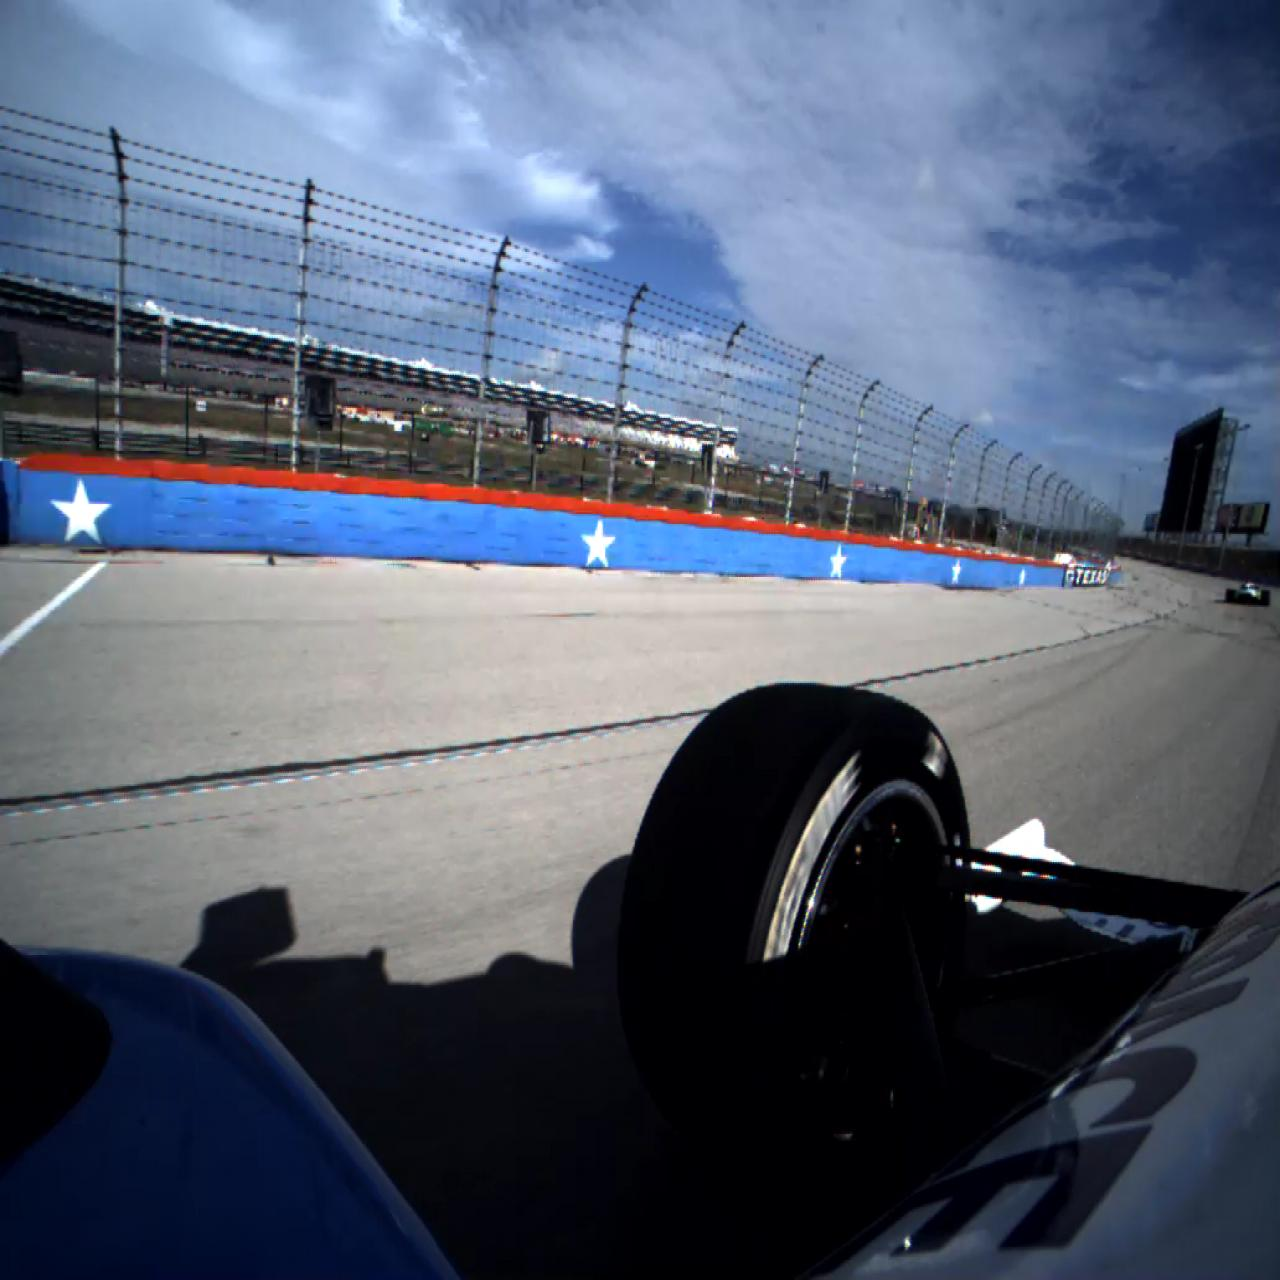AV: (1225, 578, 1272, 607)
Wheel: (626, 682, 971, 1165), (1261, 590, 1271, 606), (1226, 588, 1235, 604)
